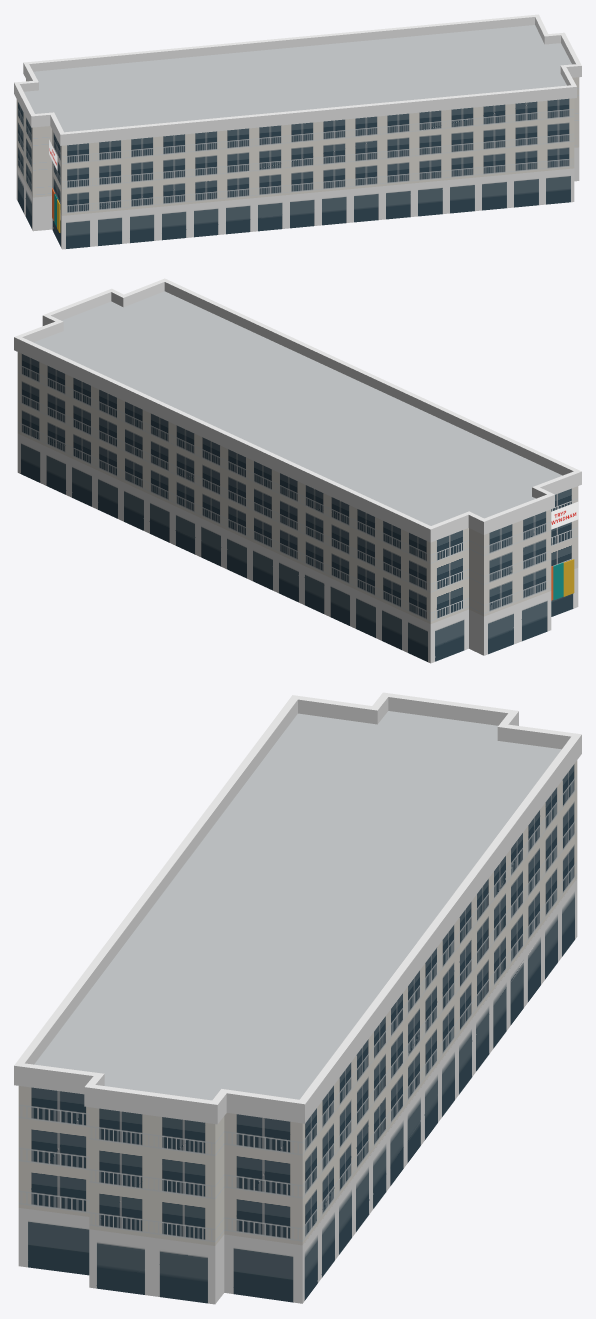
The model's file is tryp.glb.
The picture shows the model from 3 angles, top to bottom: view 1: azimuth 30°, elevation 25°; view 2: azimuth 150°, elevation 25°; view 3: azimuth 270°, elevation 25°; orthographic projection. The views are drawn at different scales.
Parts seen in each view (by area): view 1: tryp_lod0; view 2: tryp_lod0; view 3: tryp_lod0.
Part boxes in pixels (x1=…): tryp_lod0: x1=14, y1=14, x2=581, y2=249; tryp_lod0: x1=14, y1=278, x2=581, y2=663; tryp_lod0: x1=14, y1=692, x2=581, y2=1304.
Size of what is drawn, in the model's own units: 63.63 by 14.5 by 37.03.
8 materials, 3 textured.
